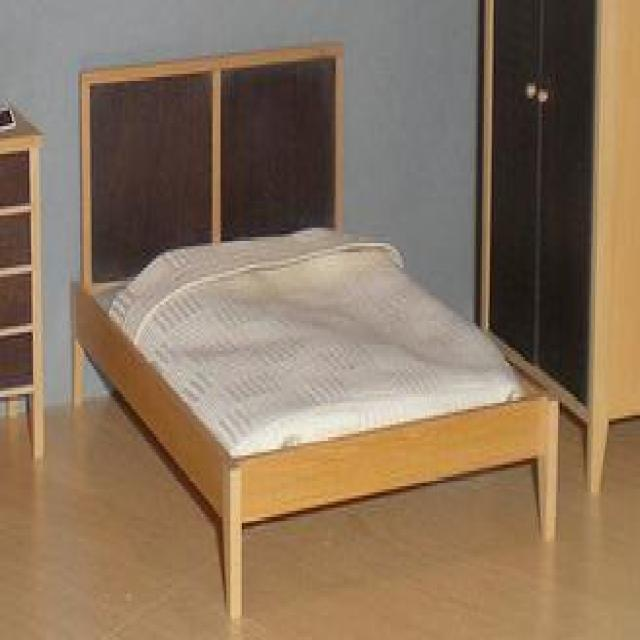bed: (70, 40, 560, 618)
